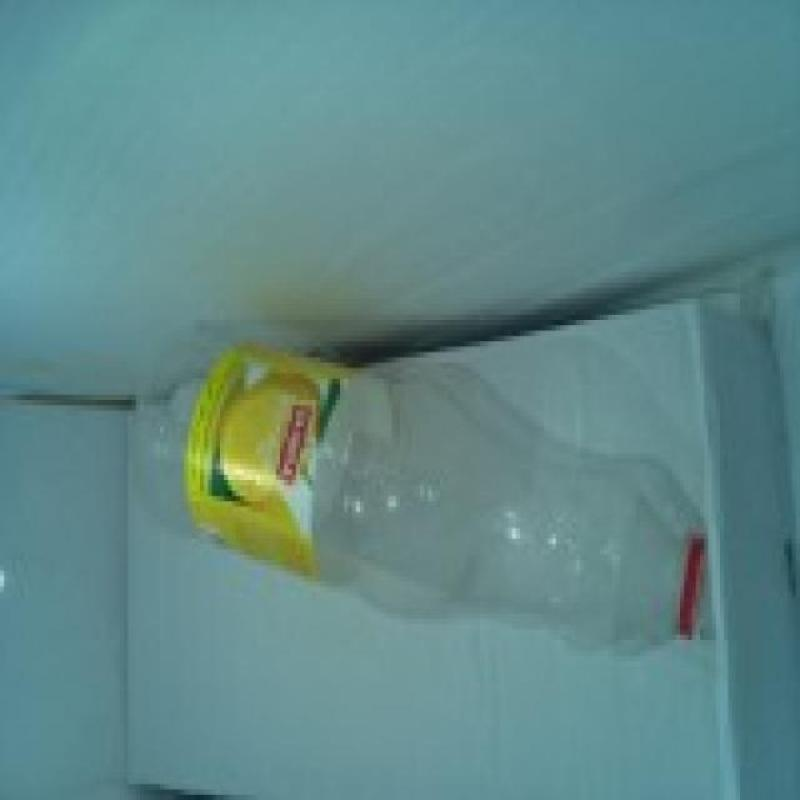botella: (136, 340, 709, 656)
